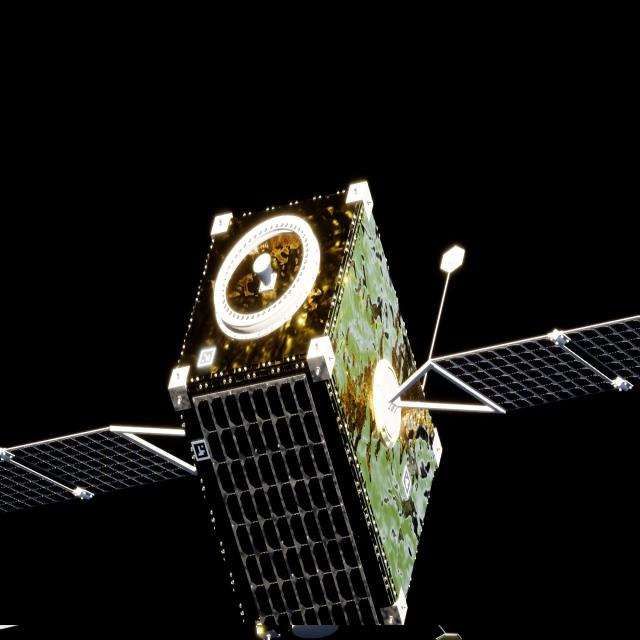satellite: (0, 181, 640, 640)
